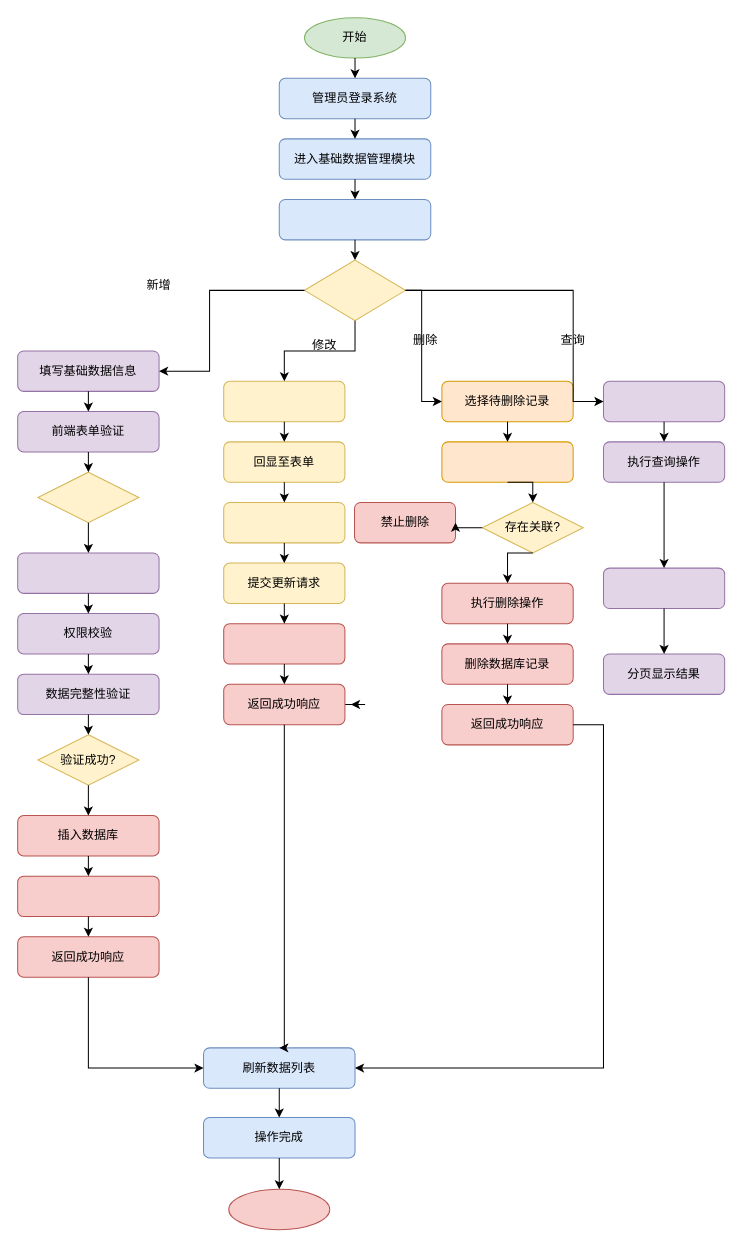
Some shapes in this 742 by 1247 pixel diagram are drawn without their labels. The centre of each missing label's shape, as x and y in pixels:
"修改数据信息" belongs at (284,522).
"修改状态为已添加" belongs at (88,896).
"提交至后端" belongs at (88,572).
"操作类型?" belongs at (355,290).
"更新数据库记录" belongs at (284,643).
"查询原有数据" belongs at (284,401).
"检查关联数据" belongs at (507,461).
"结束" belongs at (279,1209).
"输入查询条件" belongs at (663,401).
"返回数据列表" belongs at (663,588).
"选择数据类型" belongs at (354,219).
"验证通过?" belongs at (88,497).
